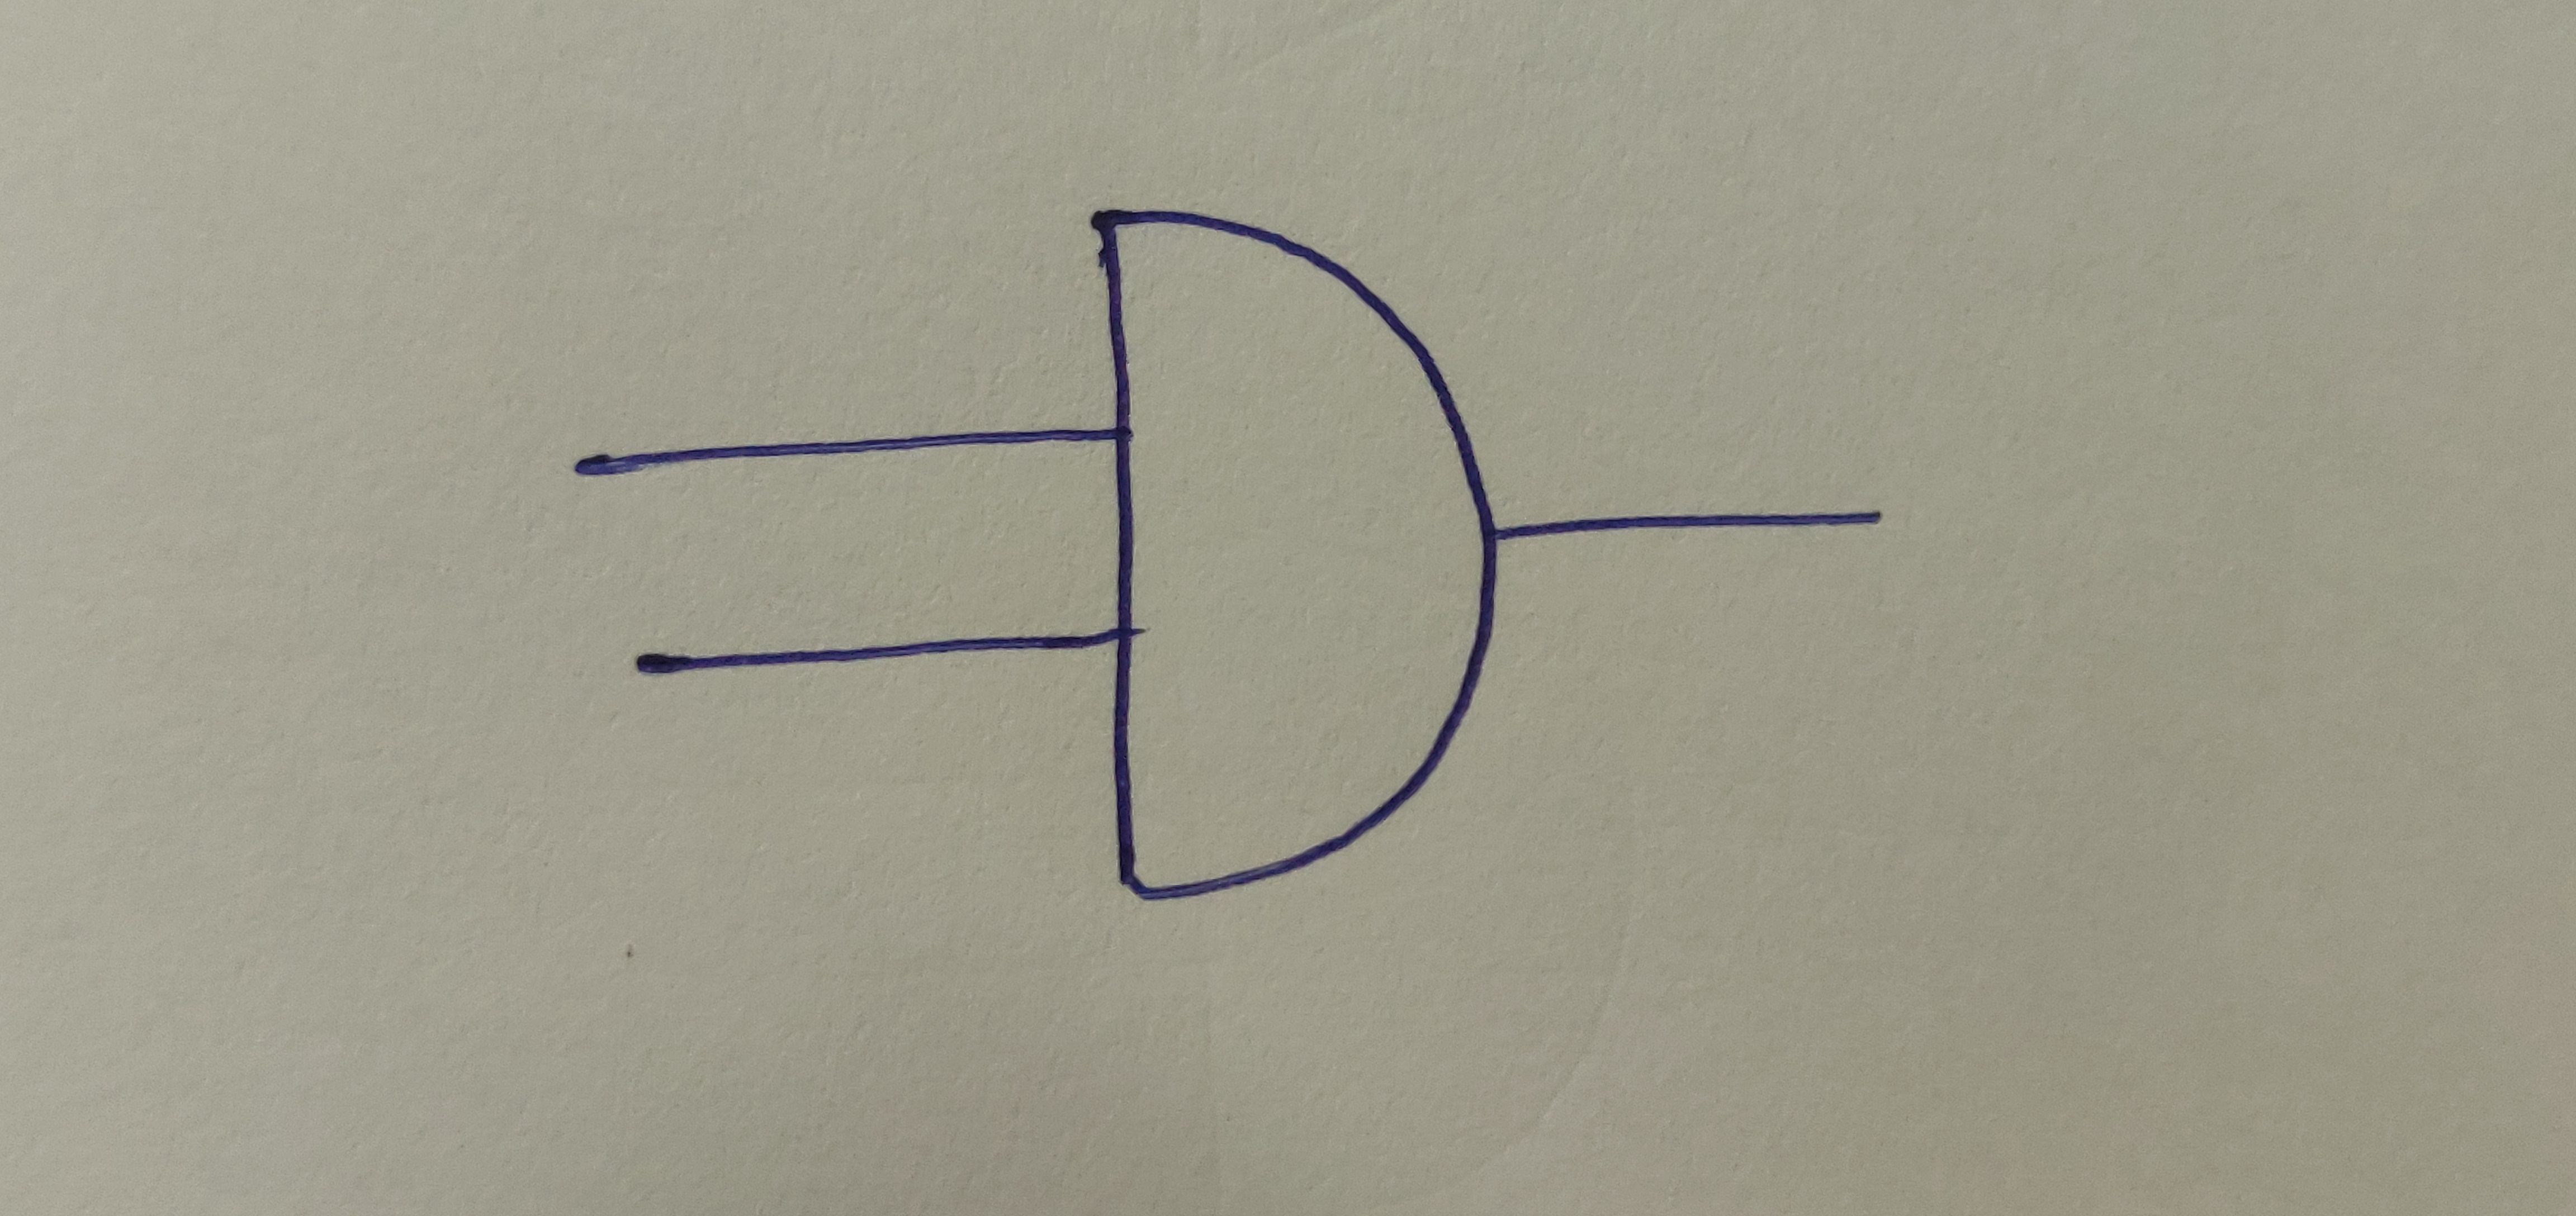and: (1096, 202, 1498, 904)
